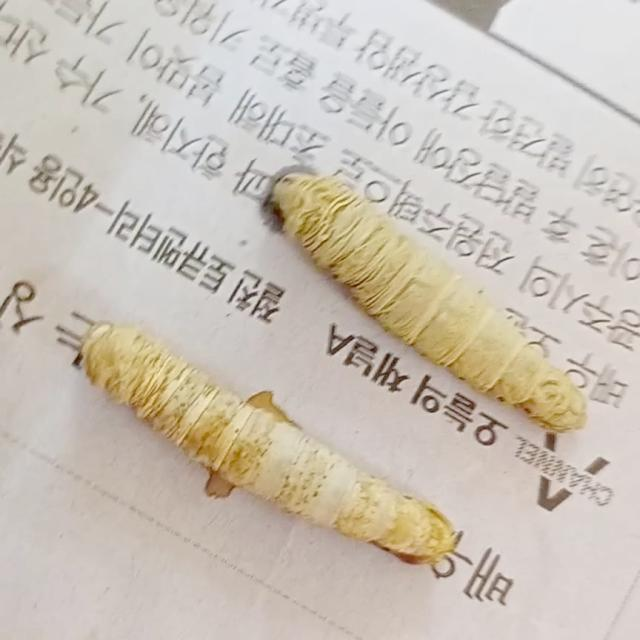Grasserie: (21, 140, 634, 618)
